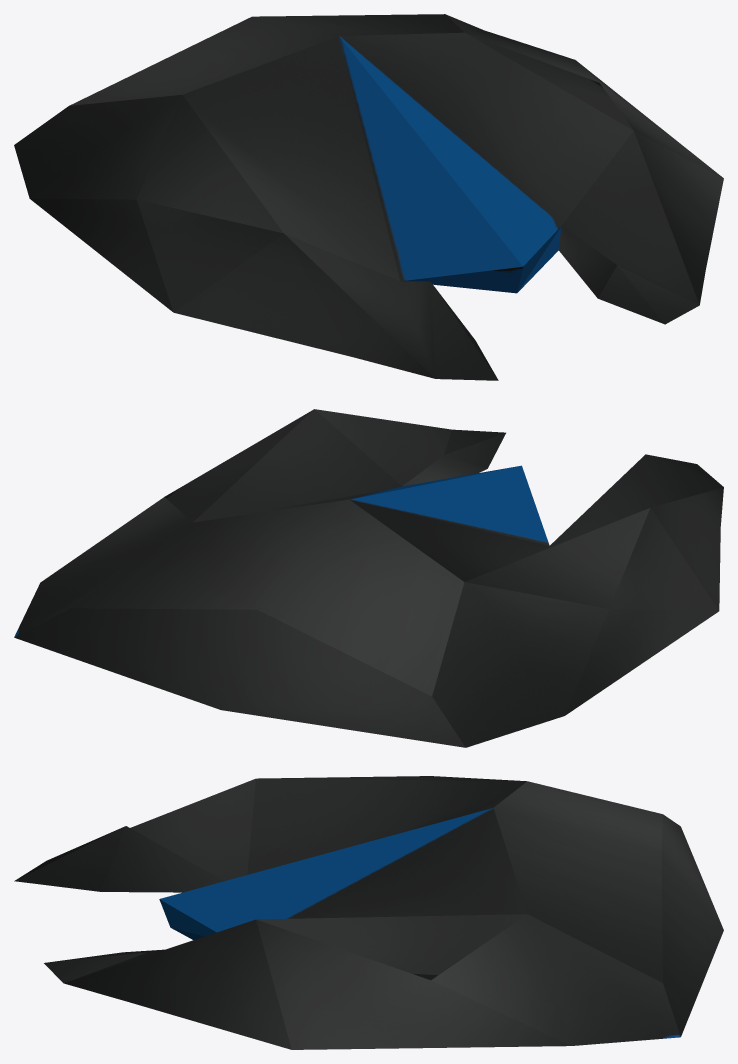
File: Barracks_Destroyed.fbx
3 renders of one model, top to bottom at view 1: azimuth 30°, elevation 25°; view 2: azimuth 150°, elevation 25°; view 3: azimuth 270°, elevation 25°, orthographic. The views are drawn at different scales.
Parts seen in each view (by area): view 1: Barracks_Destroyed; view 2: Barracks_Destroyed; view 3: Barracks_Destroyed.
Boxes of the visible parts, x1=… form: Barracks_Destroyed: x1=14, y1=14, x2=723, y2=380; Barracks_Destroyed: x1=14, y1=409, x2=723, y2=747; Barracks_Destroyed: x1=14, y1=776, x2=723, y2=1049.
Bounding box in the file's own units: 10.16 × 2.27 × 12.27.
